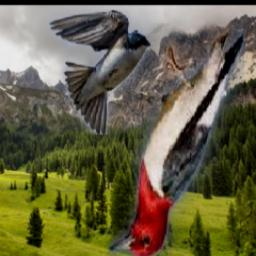Swallow: (50, 11, 151, 136)
Woodpecker: (110, 23, 245, 256)
